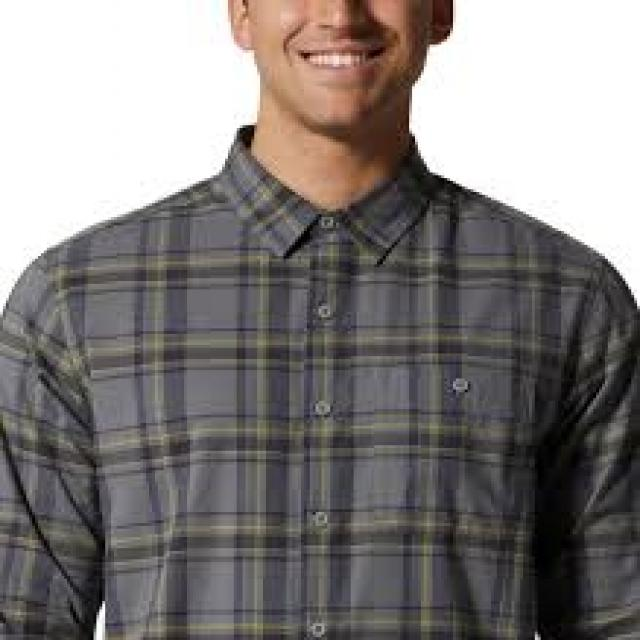plaid: (8, 108, 634, 640)
